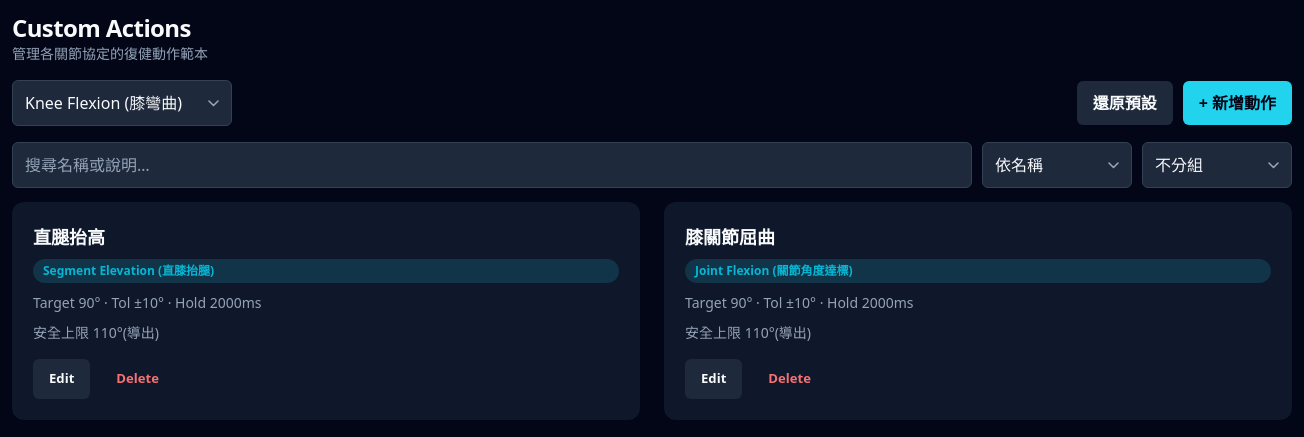
Scenario: ActionsView 空狀態 › 有動作但搜尋不到時,提供「清除搜尋」而不是「載入預設範本」
Type "不存在" into the search field with placeholder "搜尋名稱或說明…" at (492, 165), box [12,142,972,188]
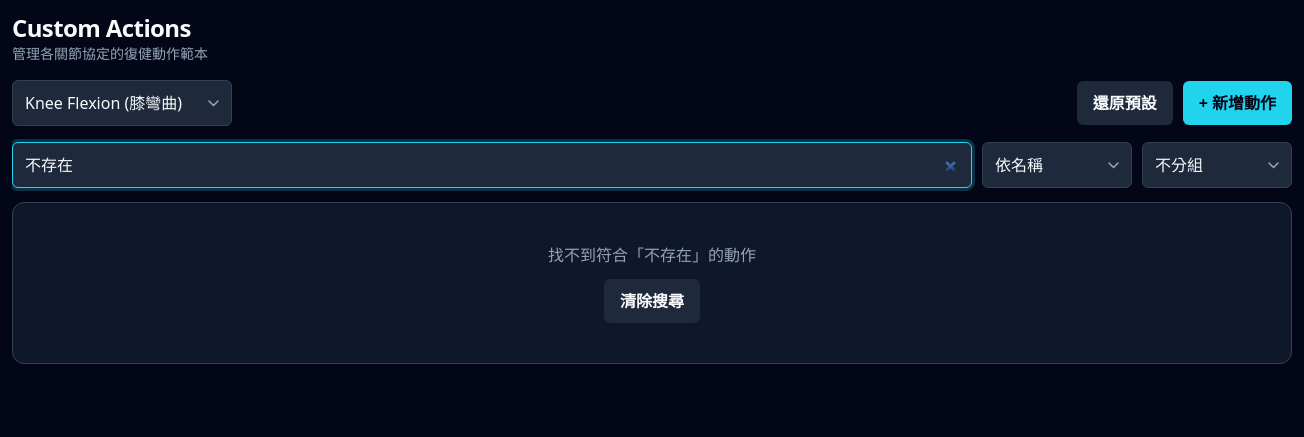
Expected: the text "找不到符合「不存在」的動作" is shown, [548,243,756,267]
Expected: the button "清除搜尋" is shown, [604,279,700,323]
